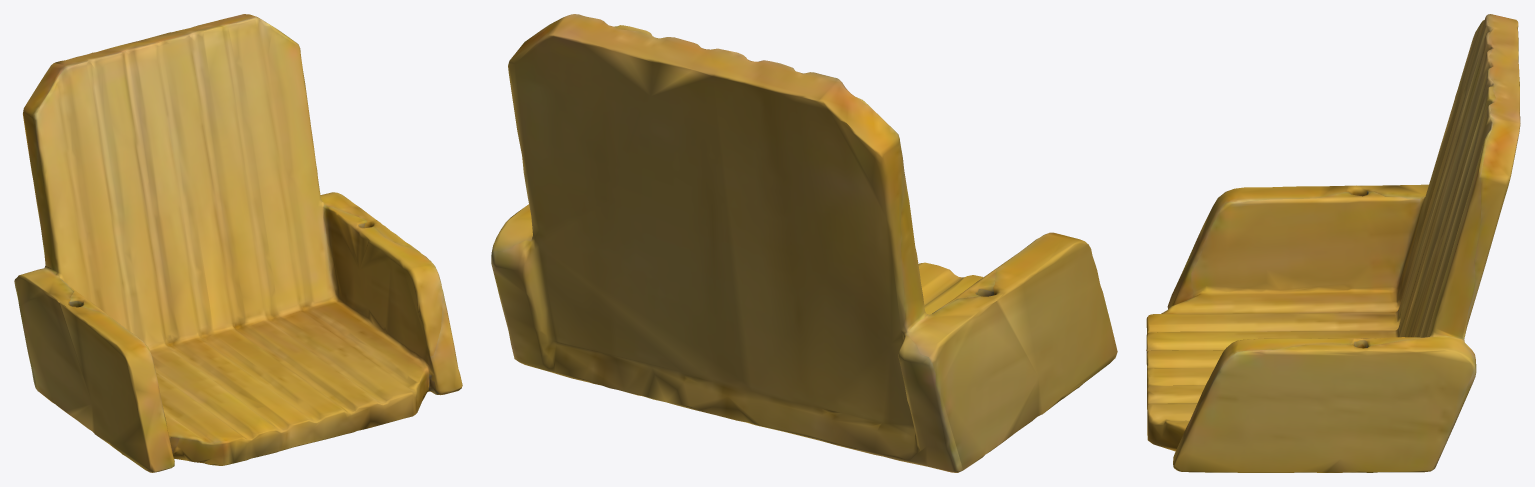
File: 3D_Dollhouse_Swing-high.glb
3 views of the same model, side by side, from view 1: azimuth 30°, elevation 25°; view 2: azimuth 150°, elevation 25°; view 3: azimuth 270°, elevation 25° (orthographic). The views are drawn at different scales.
Parts seen in each view (by area): view 1: 3D_Dollhouse_Swing; view 2: 3D_Dollhouse_Swing; view 3: 3D_Dollhouse_Swing.
Boxes of the visible parts, bbox=[...] form: 3D_Dollhouse_Swing: bbox=[14, 14, 462, 472]; 3D_Dollhouse_Swing: bbox=[491, 14, 1117, 472]; 3D_Dollhouse_Swing: bbox=[1146, 14, 1520, 472].
Size of the model in its own units: 0.1048 by 0.0922 by 0.0953.
1 material, 1 textured.
